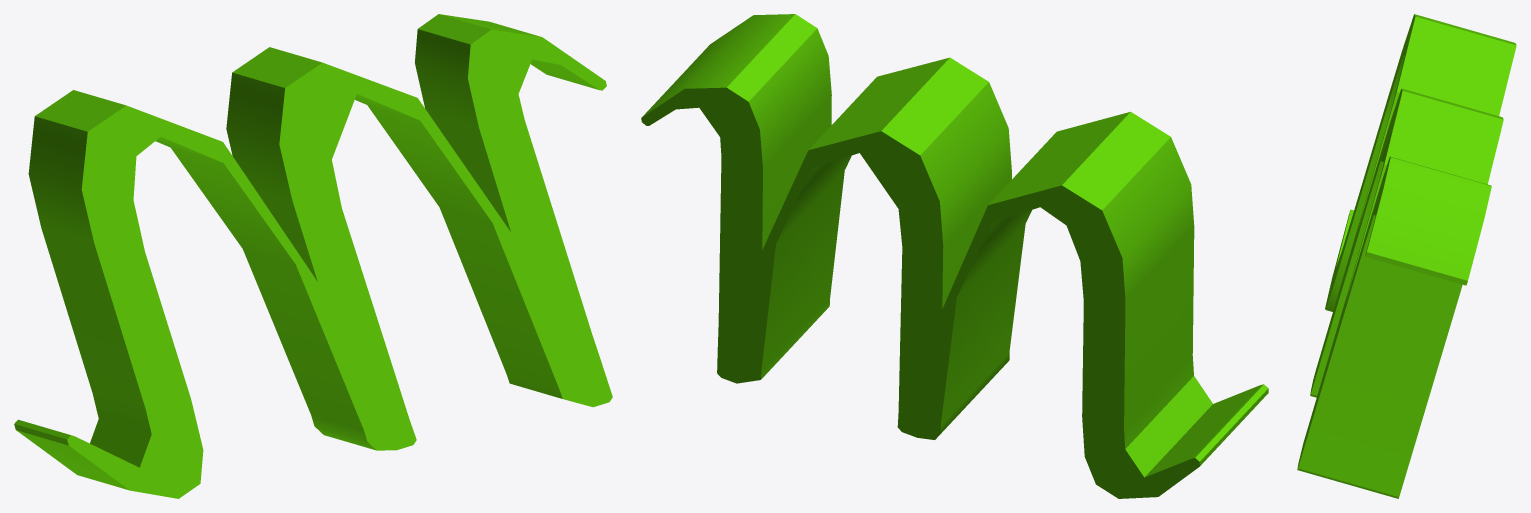
File: m_formula_B.fbx
3 renders of one model, left to right at view 1: azimuth 30°, elevation 25°; view 2: azimuth 150°, elevation 25°; view 3: azimuth 270°, elevation 25°, orthographic. The views are drawn at different scales.
Parts seen in each view (by area): view 1: m_formula_B; view 2: m_formula_B; view 3: m_formula_B.
Part boxes in pixels (x1,y1,x2,y2): m_formula_B: (14, 14, 612, 498); m_formula_B: (641, 14, 1268, 498); m_formula_B: (1297, 14, 1516, 498).
Size of the model in its own units: 2.29 by 1.52 by 0.9394.
